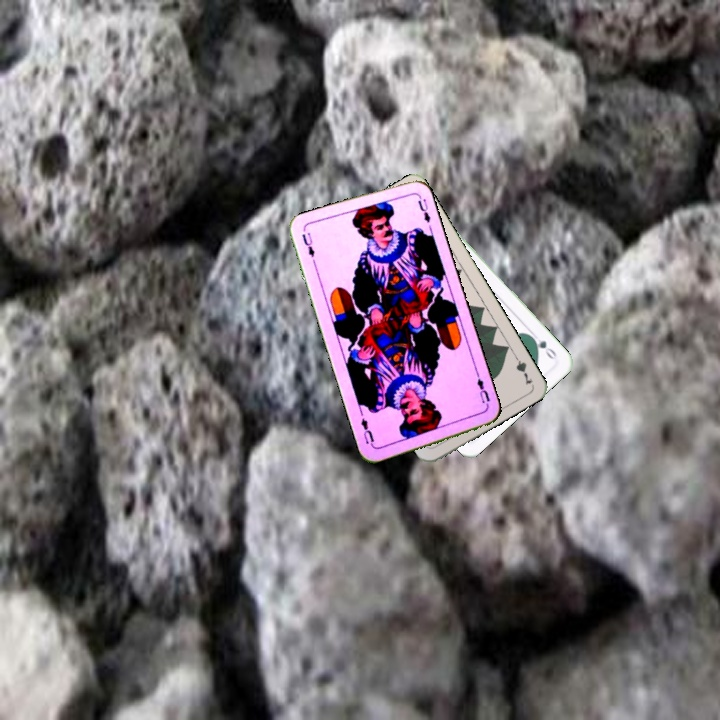EU: (473, 370, 493, 411), (298, 228, 317, 260)
G7: (509, 349, 535, 388)
GO: (526, 332, 559, 363)
